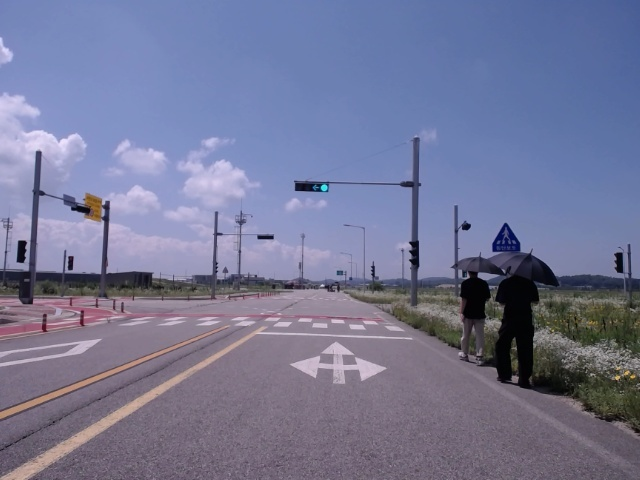all_green_4: (292, 179, 330, 192)
